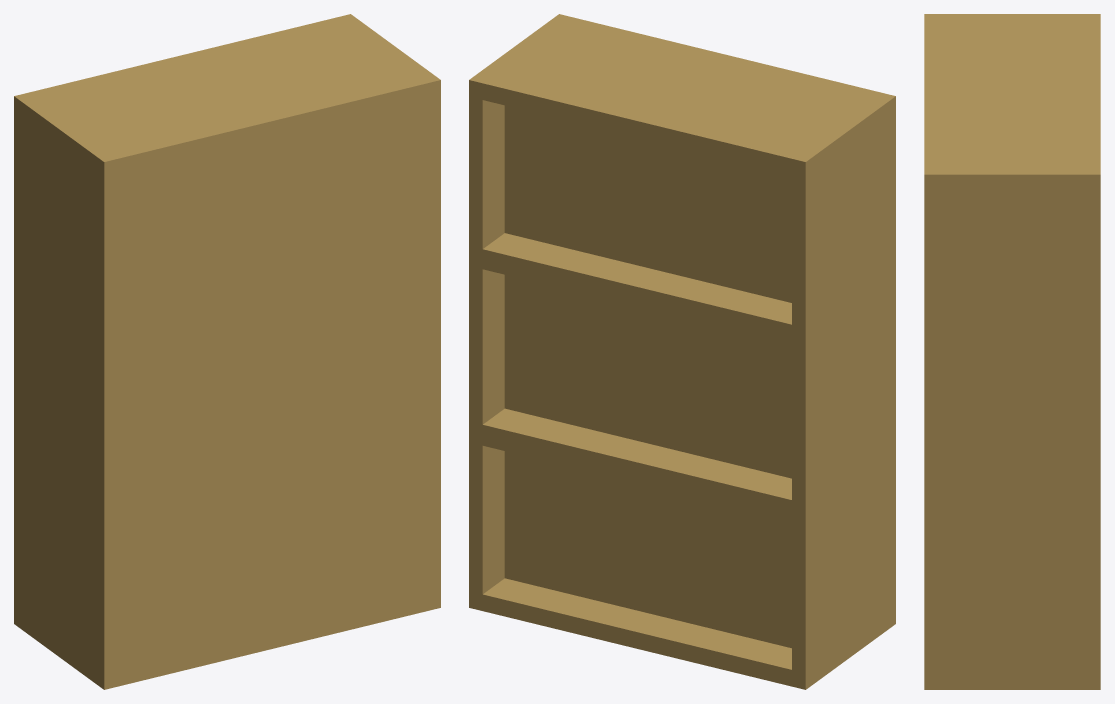
The model's file is Decor_BookShelf2.fbx.
3 renders of one model, left to right at view 1: azimuth 30°, elevation 25°; view 2: azimuth 150°, elevation 25°; view 3: azimuth 270°, elevation 25°, orthographic. The views are drawn at different scales.
Visible parts, largest first — view 1: BookShelf01; view 2: BookShelf01; view 3: BookShelf01.
Part boxes in pixels (left/top/right/bottom): BookShelf01: left=14, top=14, right=440, bottom=689; BookShelf01: left=469, top=14, right=895, bottom=689; BookShelf01: left=924, top=14, right=1100, bottom=689.
Size of the model in its own units: 1.23 by 1.84 by 0.5699.
Materials: 1 (1 with a texture image).
